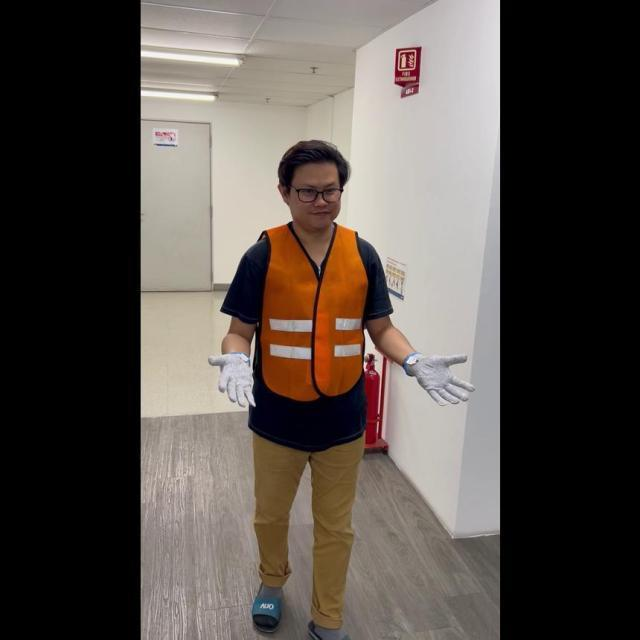gloved_hand: (400, 344, 474, 407), (207, 346, 257, 409)
